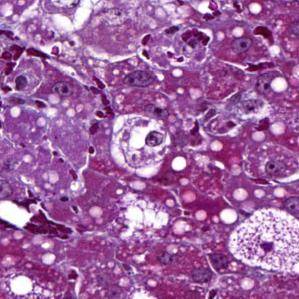ballooning: (227, 206, 298, 282), (110, 112, 172, 180)
